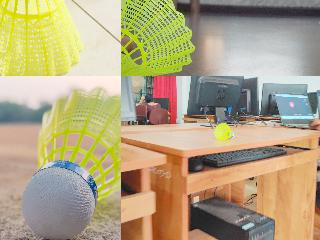shuttlecock: (21, 86, 120, 238), (0, 0, 83, 75), (121, 0, 194, 75), (214, 122, 234, 139)
